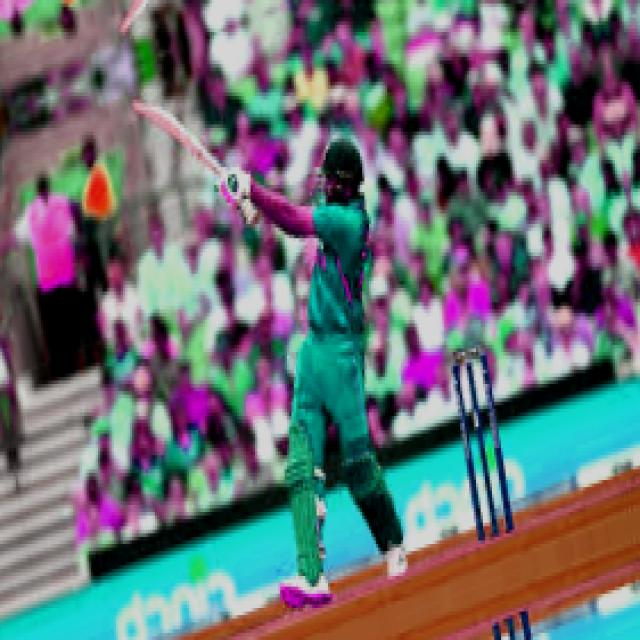toe: (121, 92, 152, 119)
